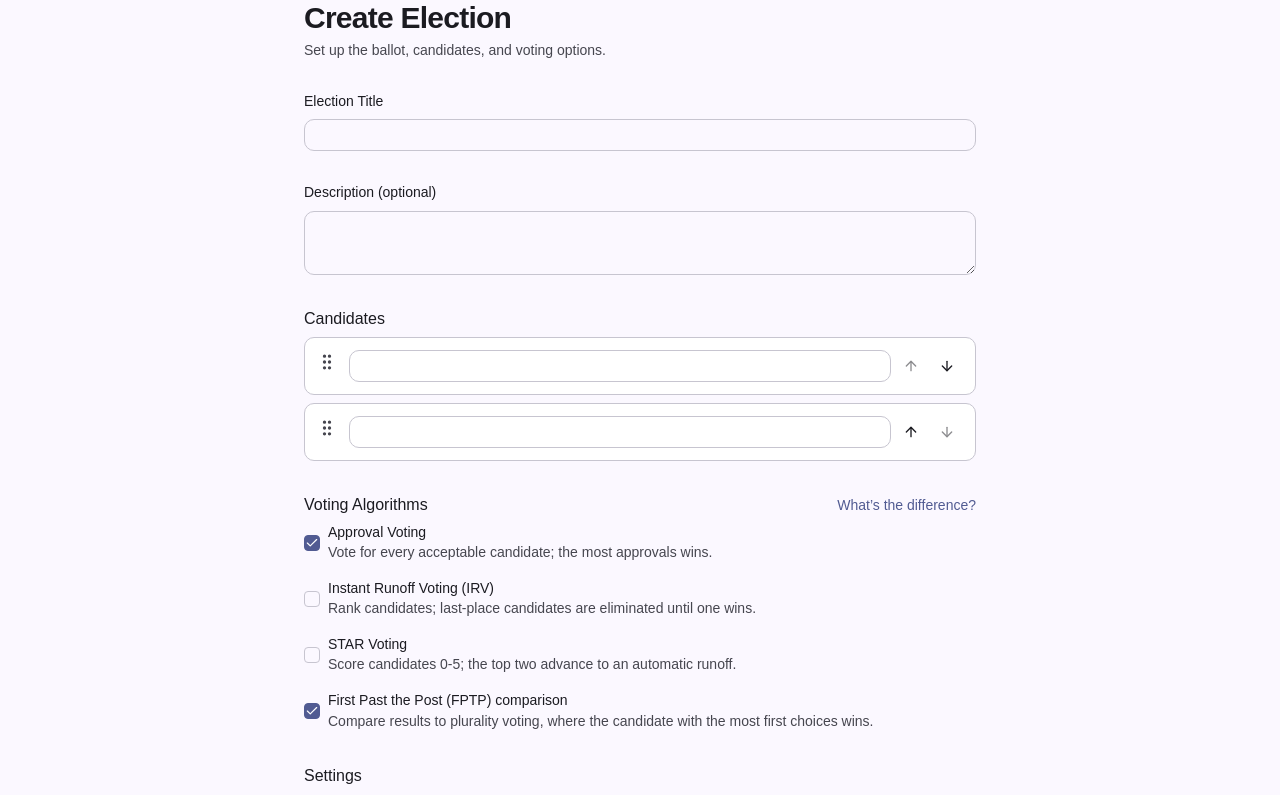
Scenario: M11 create election › preserves the origin marker while switching explainer algorithms
Click the link "What’s the difference?" at [907, 504], box [837, 494, 976, 514]
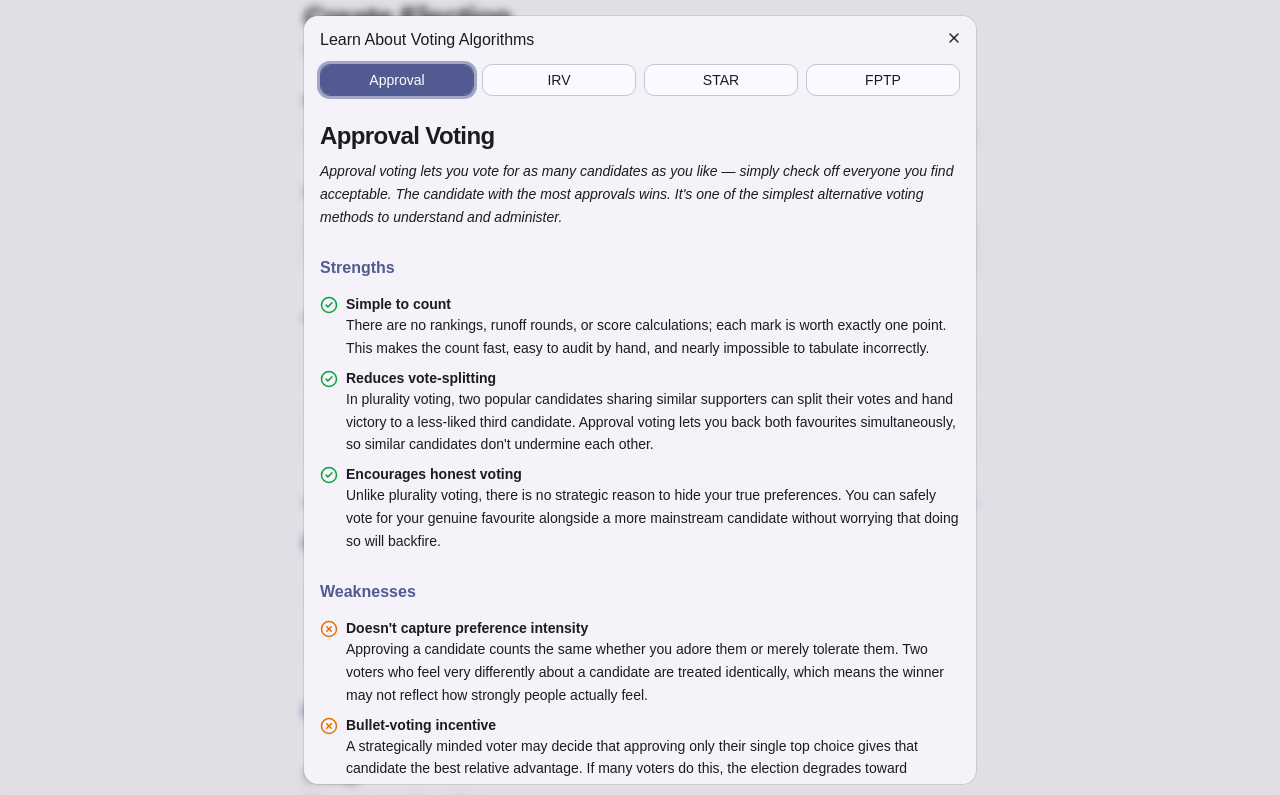
Click the tab "STAR" at [721, 80], box [644, 64, 798, 96]
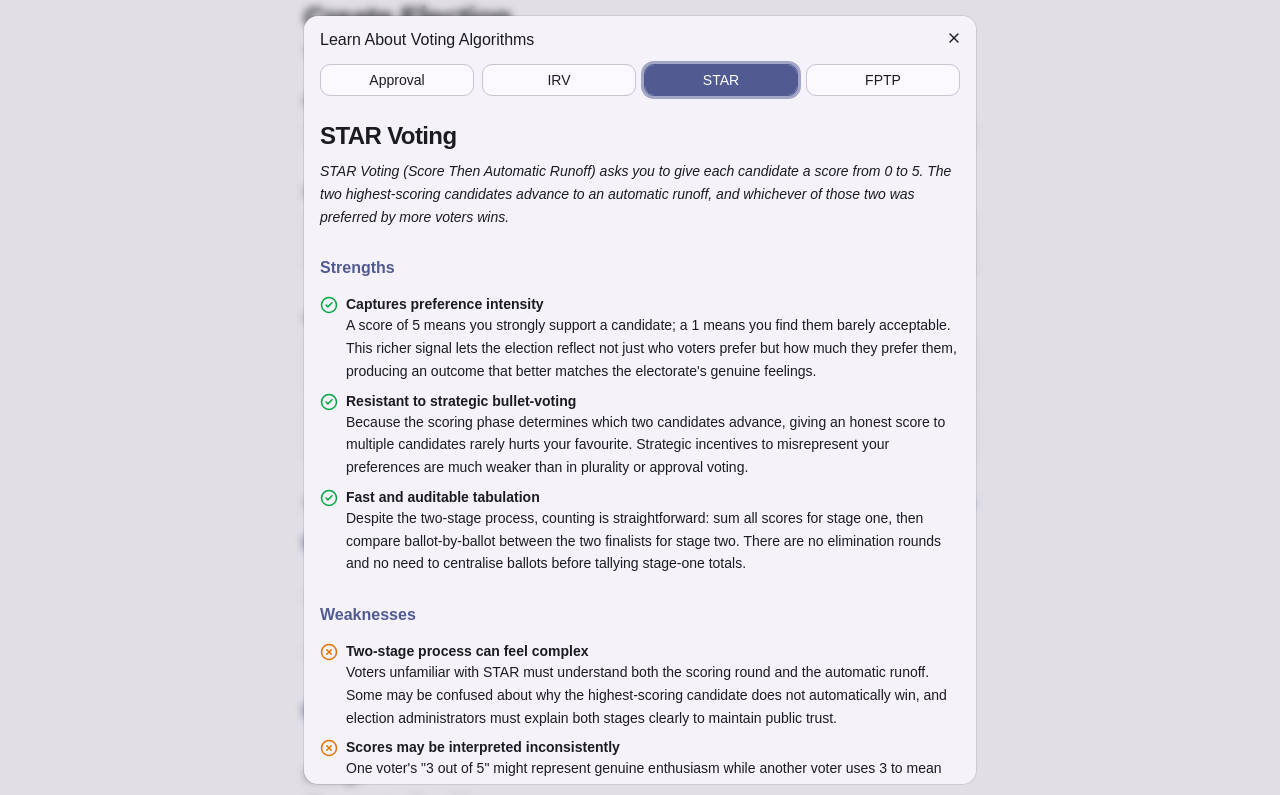
Click the button named "Close" at [954, 38], box [940, 24, 968, 52]
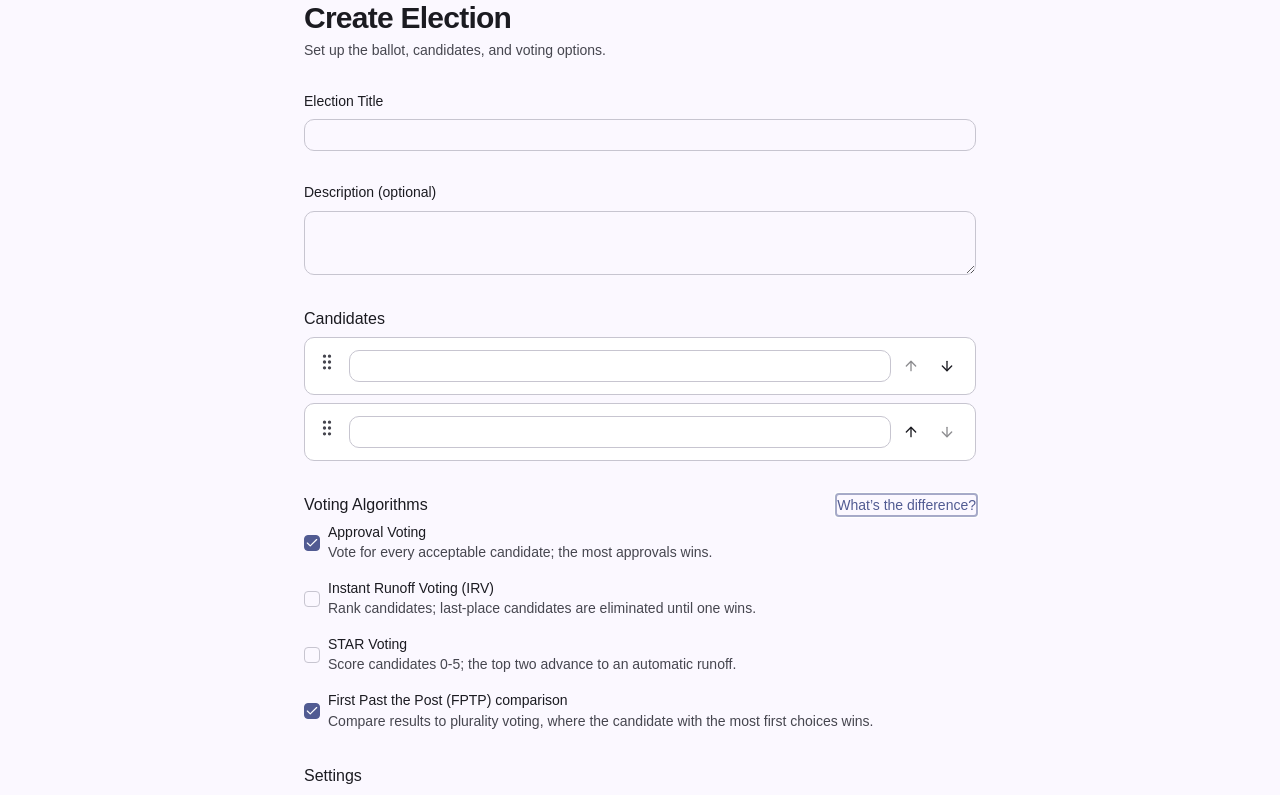
Expected: the dialog is gone
